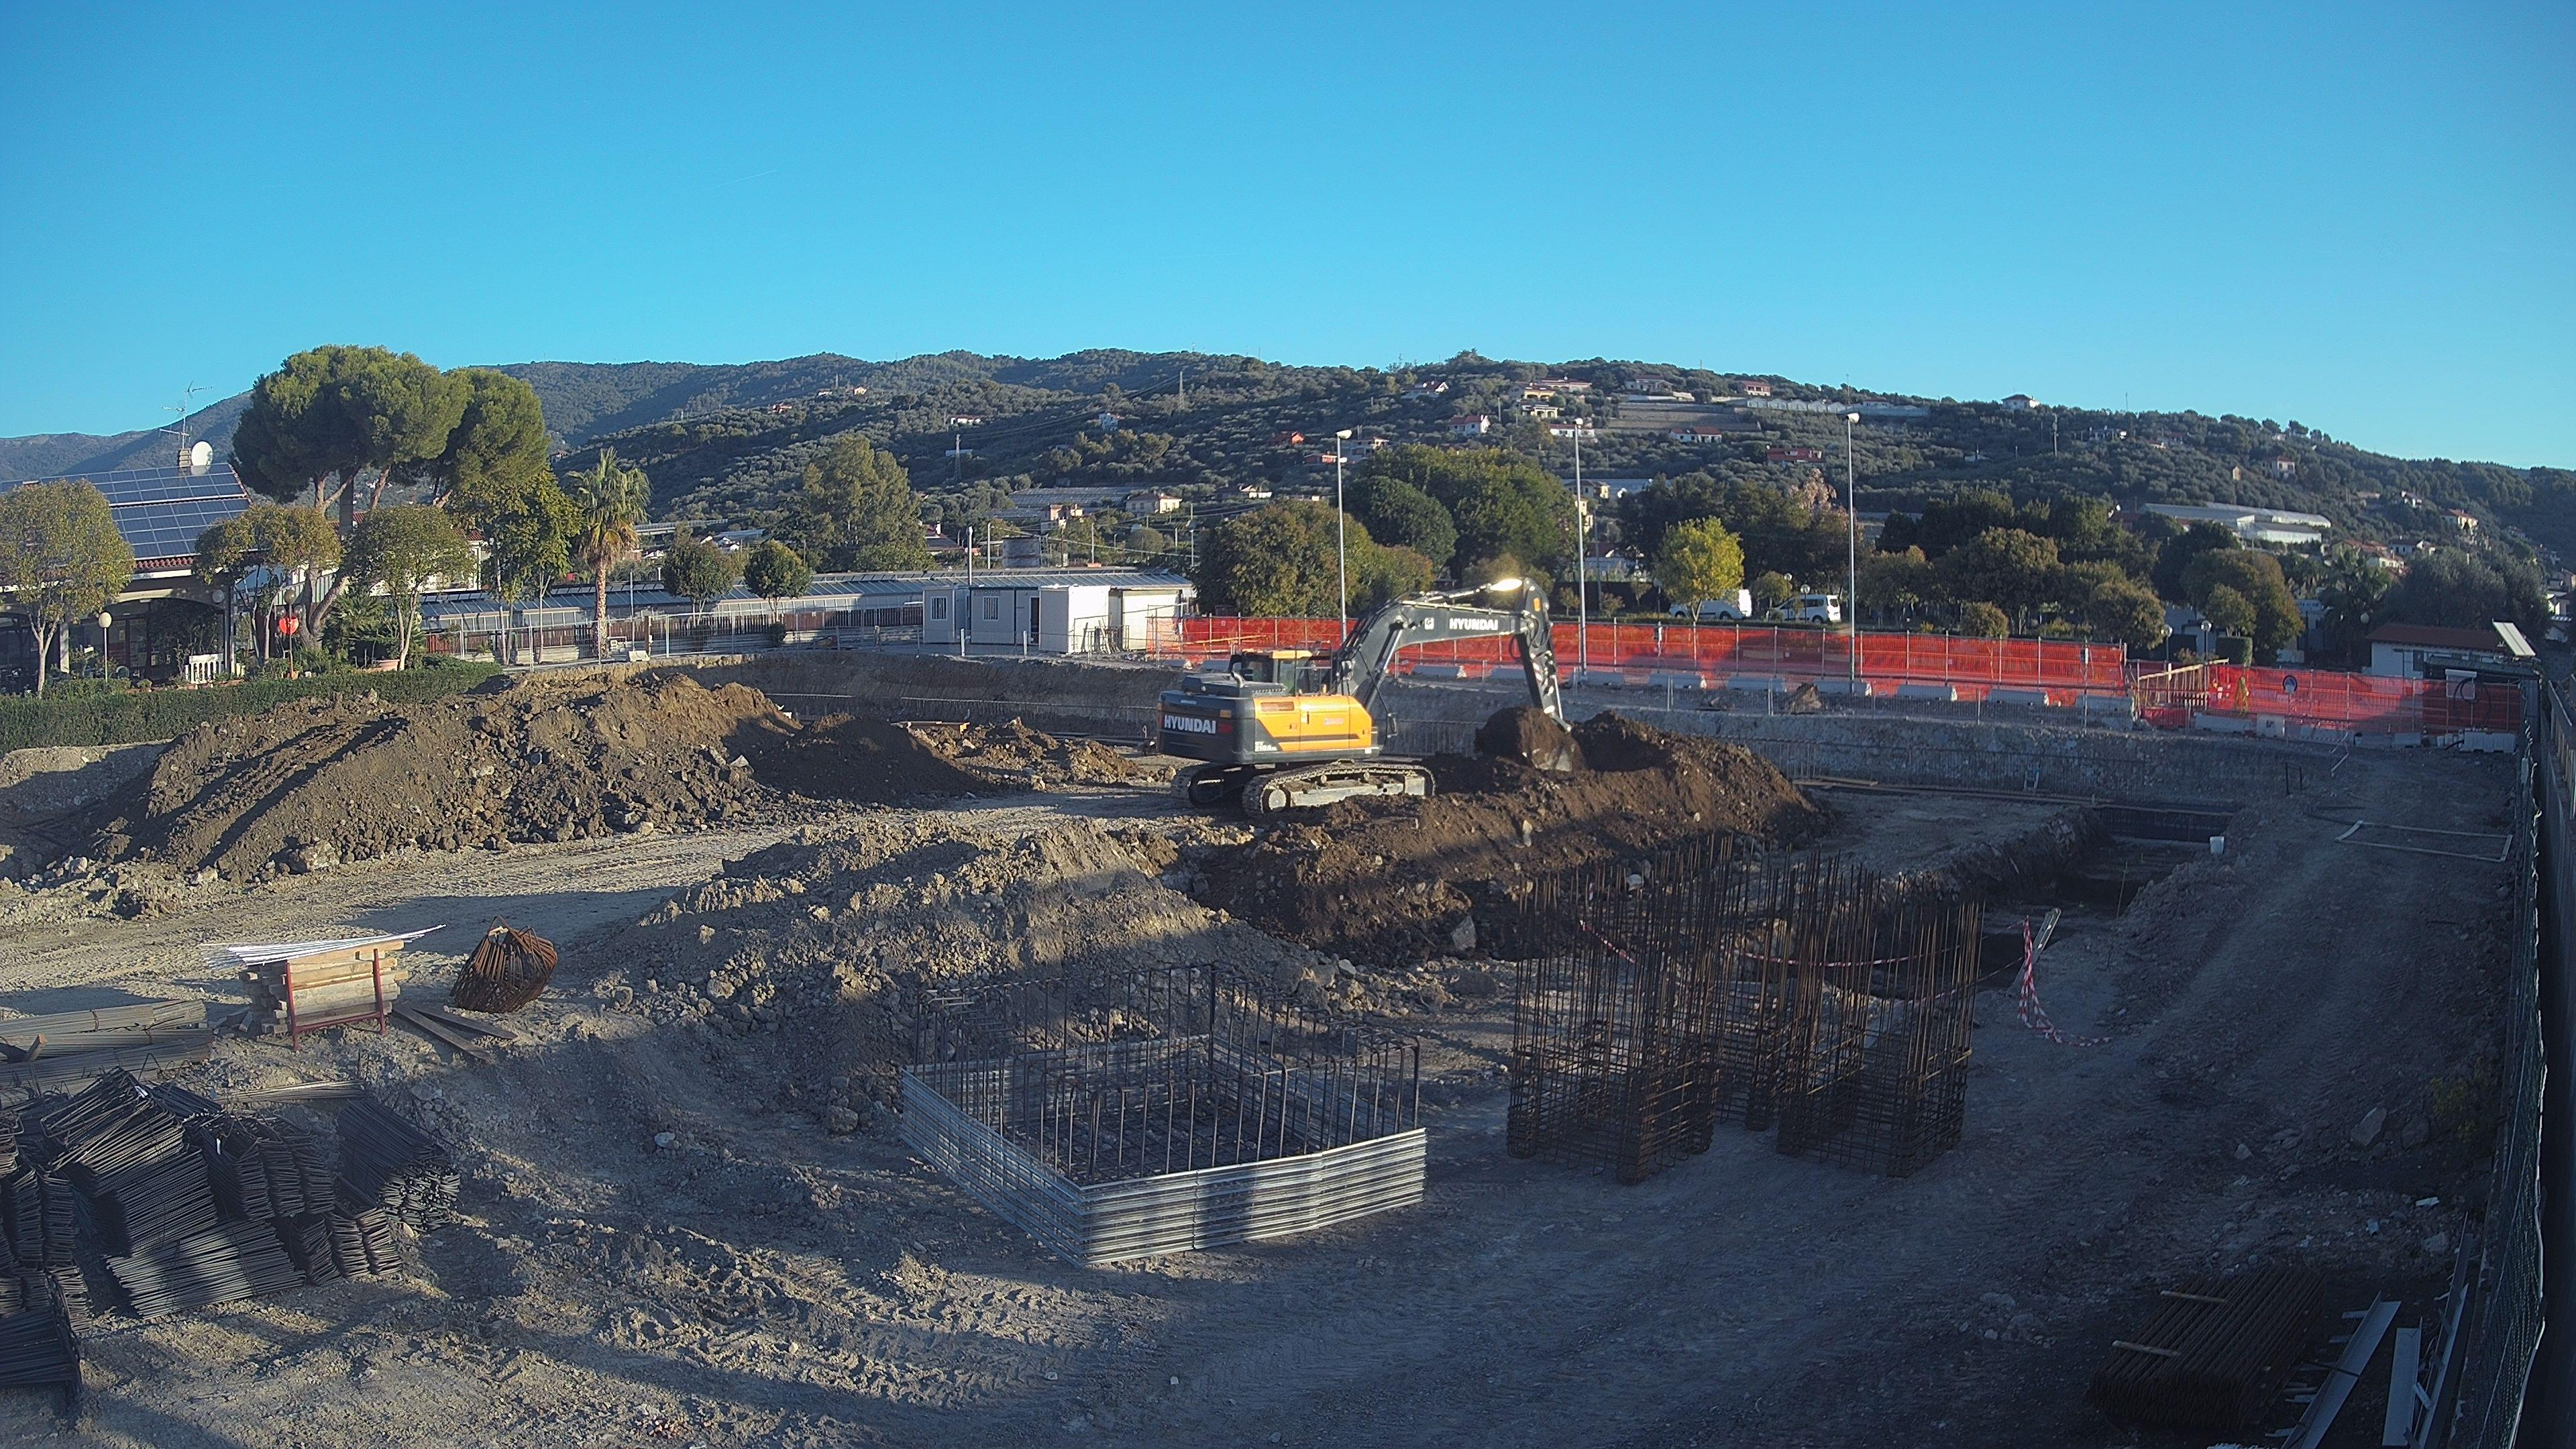Cars: (1668, 589, 1752, 621), (1766, 594, 1842, 626)
excavator: (1154, 577, 1583, 823)
